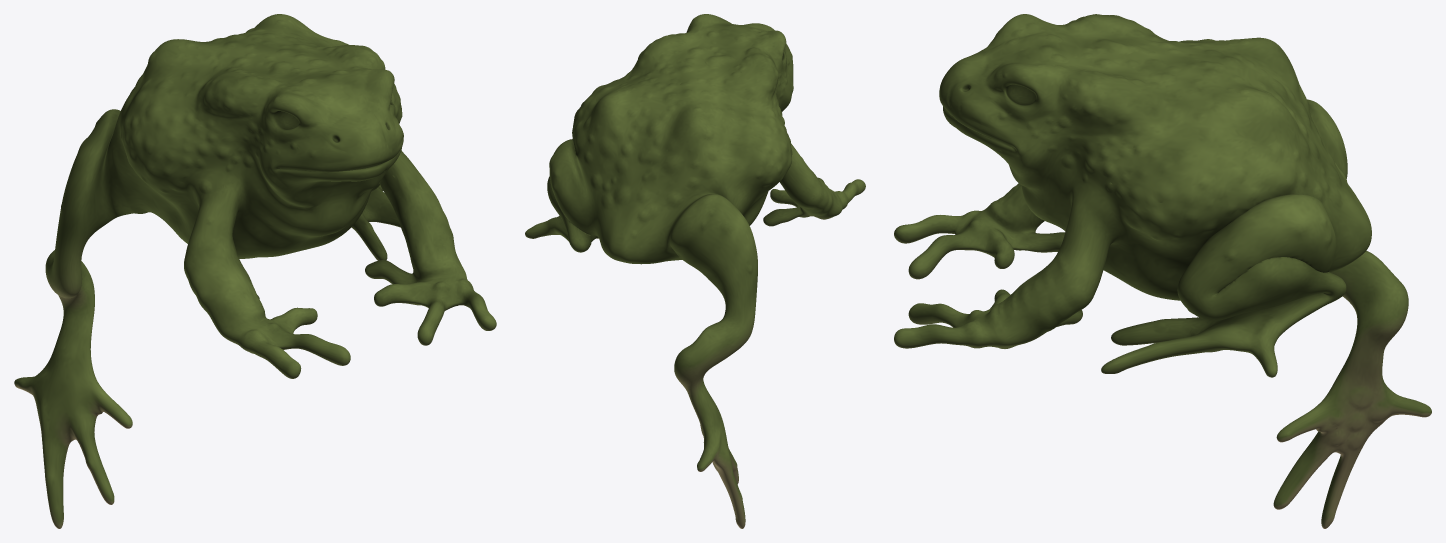
Rendered from Grogg_web.glb.
3 renders of one model, left to right at view 1: azimuth 30°, elevation 25°; view 2: azimuth 150°, elevation 25°; view 3: azimuth 270°, elevation 25°, orthographic. The views are drawn at different scales.
Visible parts, largest first — view 1: Toad_Grogg.005; view 2: Toad_Grogg.005; view 3: Toad_Grogg.005.
Boxes of the visible parts, <box> form: Toad_Grogg.005: <box>14,14,496,528</box>; Toad_Grogg.005: <box>525,14,865,528</box>; Toad_Grogg.005: <box>894,14,1431,528</box>.
Bounding box in the file's own units: 200 × 316 × 274.
